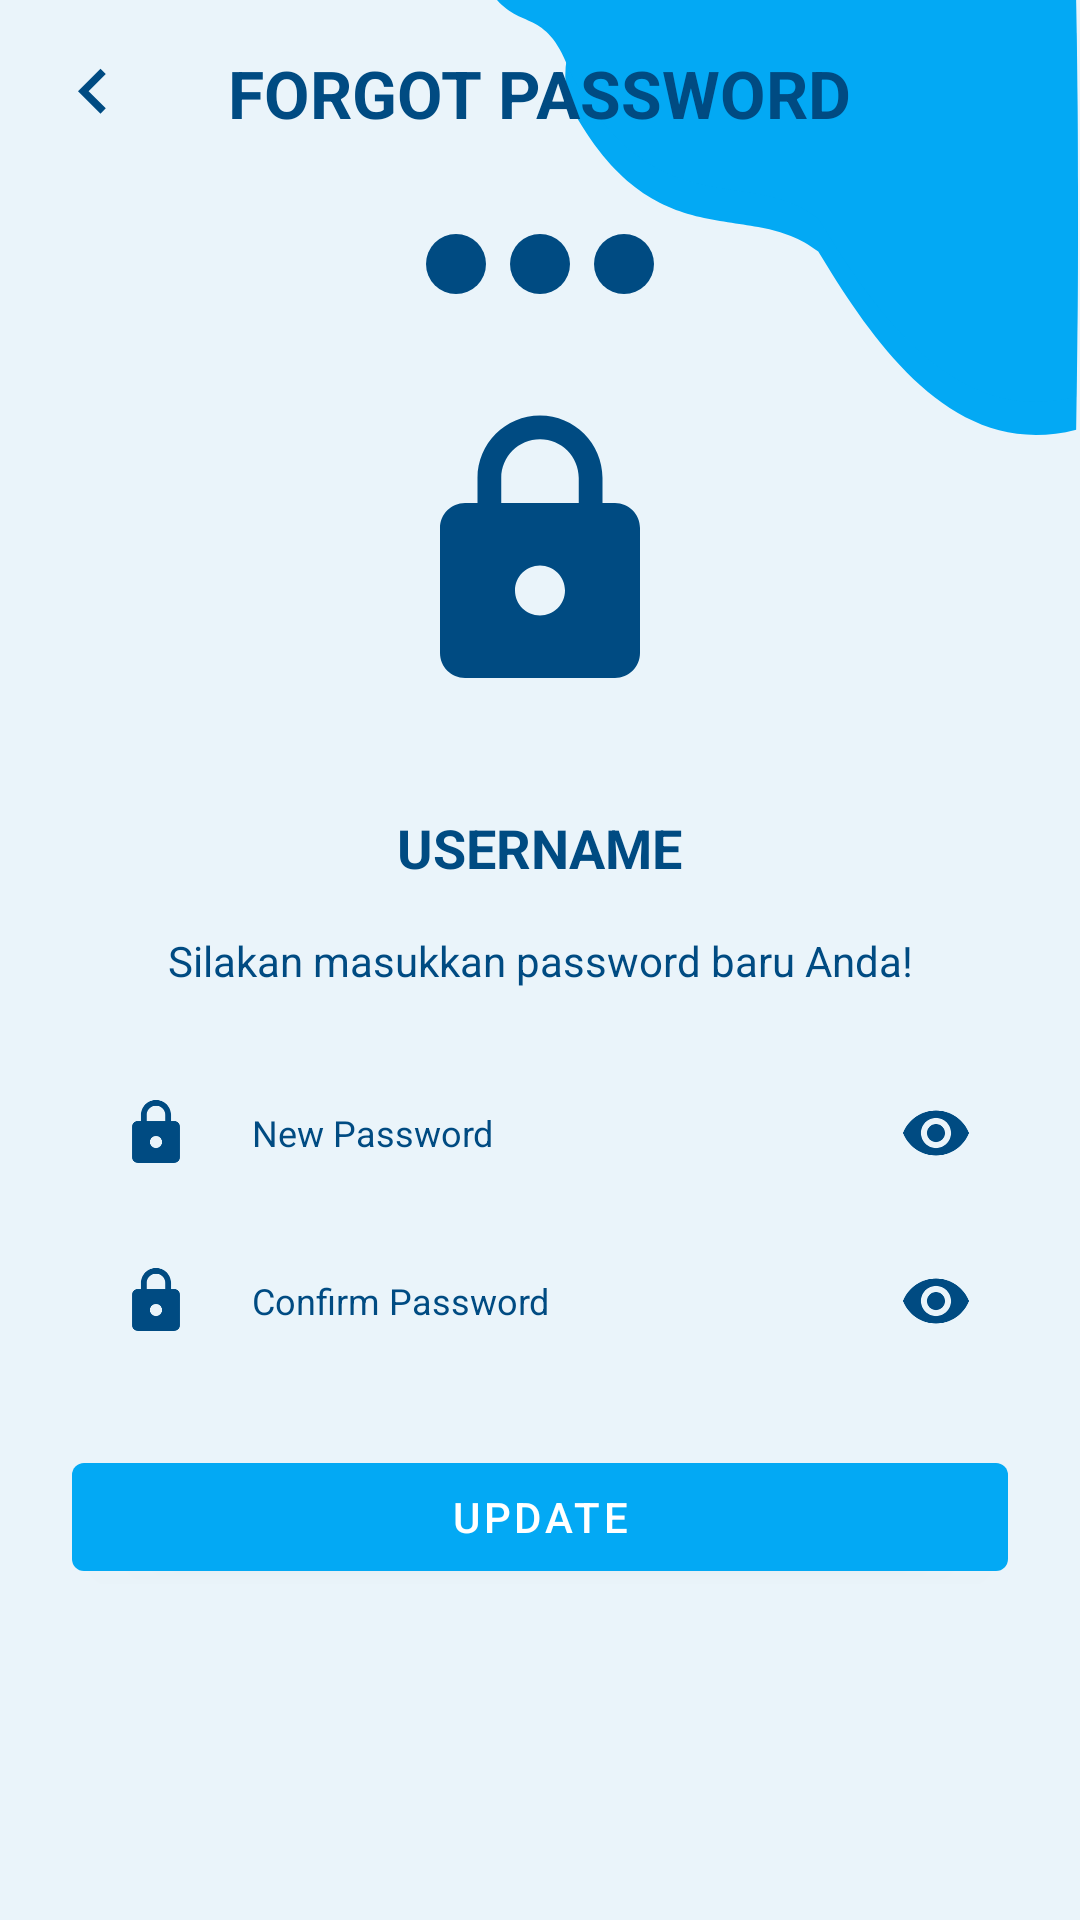

Screen size 1080 × 1920. Icon name, then its box in pixels as (x1, y1, x2, y2):
keyboard arrow left: (78, 69, 106, 114)
lock: (440, 415, 640, 678)
